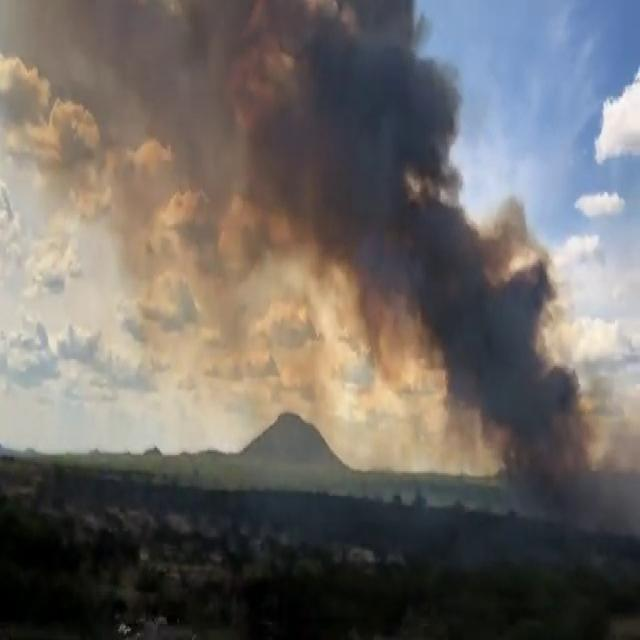Smoke: (20, 0, 509, 283), (374, 272, 640, 526)
